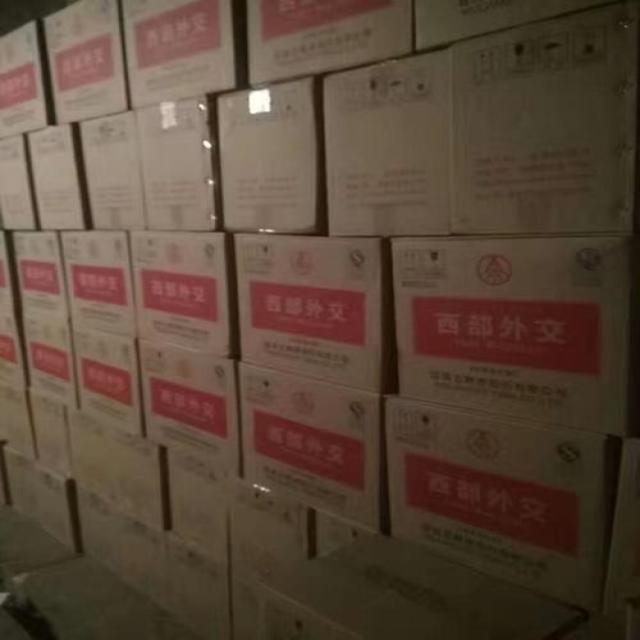box: (392, 233, 640, 437), (389, 395, 611, 611), (452, 0, 640, 234), (257, 531, 584, 639), (232, 231, 396, 394), (238, 362, 387, 535), (324, 44, 452, 236), (218, 77, 316, 234), (136, 337, 239, 480), (247, 0, 413, 87), (129, 230, 237, 362), (122, 0, 238, 111), (134, 94, 219, 230), (42, 0, 133, 126), (413, 0, 611, 53), (228, 477, 314, 582), (165, 447, 233, 573), (59, 228, 136, 337), (72, 324, 145, 437), (78, 111, 146, 230), (26, 120, 92, 230), (166, 530, 232, 640), (110, 421, 169, 533), (604, 438, 640, 620), (0, 21, 54, 139), (10, 228, 72, 327), (115, 510, 169, 611), (19, 318, 76, 405), (68, 403, 113, 504), (0, 132, 41, 232), (36, 461, 79, 555), (28, 385, 70, 480), (76, 484, 119, 575), (0, 376, 36, 461), (0, 445, 37, 527), (315, 509, 376, 556), (0, 318, 26, 386), (233, 579, 261, 639), (0, 227, 18, 318)
